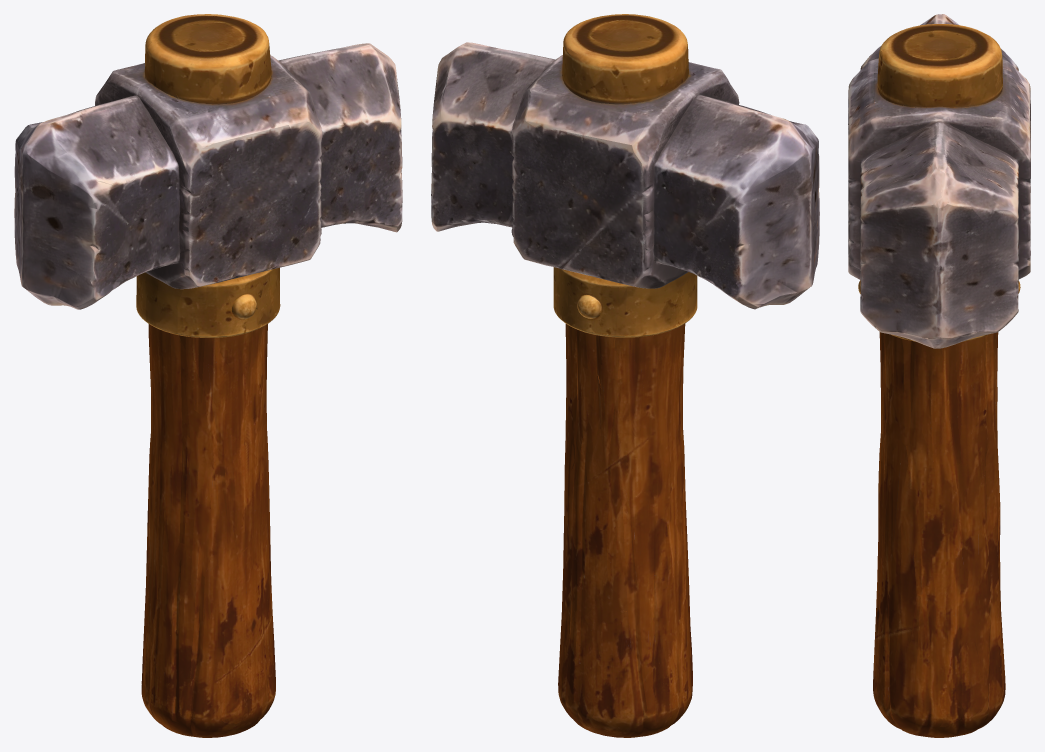
File: hammer.glb
3 views of the same model, side by side, from view 1: azimuth 30°, elevation 25°; view 2: azimuth 150°, elevation 25°; view 3: azimuth 270°, elevation 25° (orthographic).
Parts seen in each view (by area): view 1: Mesh_0; view 2: Mesh_0; view 3: Mesh_0.
Boxes of the visible parts, box(x1,y1,x2,y2) form: Mesh_0: box(14, 14, 402, 737); Mesh_0: box(431, 14, 819, 737); Mesh_0: box(848, 14, 1030, 737).
Size of the model in its own units: 1.08 by 1.9 by 0.4665.
Materials: 1 (1 with a texture image).
